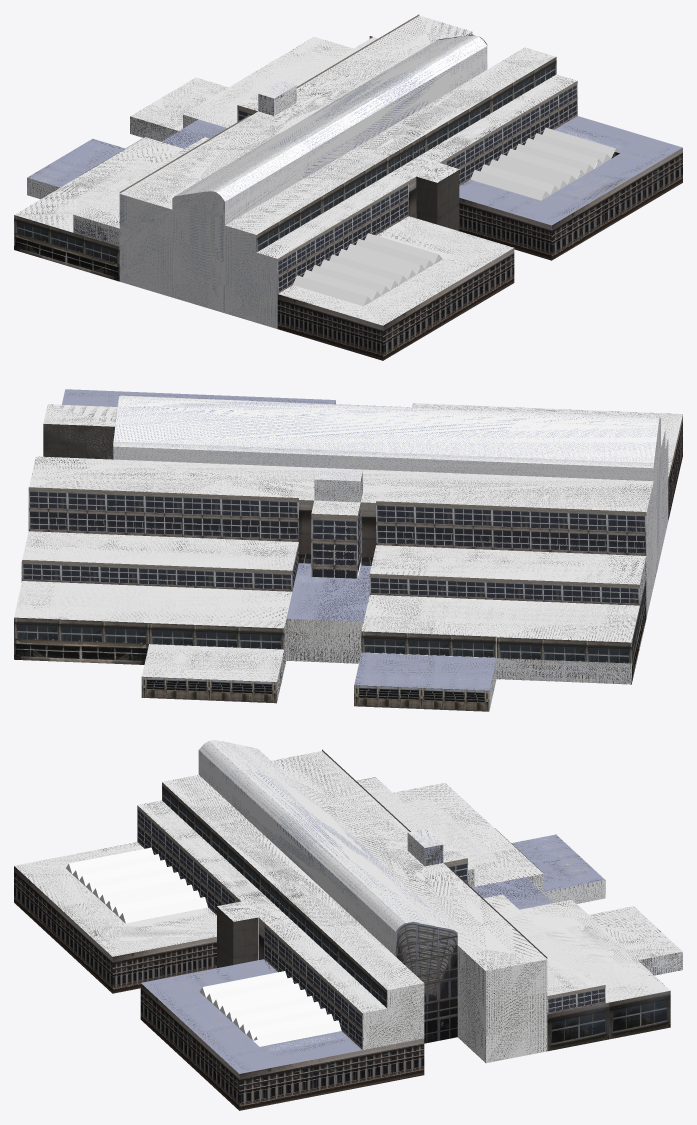
File: Edificio de arquitectura Tafira.fbx
3 views of the same model, one above another, from view 1: azimuth 30°, elevation 25°; view 2: azimuth 150°, elevation 25°; view 3: azimuth 270°, elevation 25° (orthographic). The views are drawn at different scales.
Visible parts, largest first — view 1: Model, Group1, Group2, Group8, Group17, Group12, Group18, Group4, Group9, Group19, Group11, Group22 (+8 smaller); view 2: Model; view 3: Model, Group2, Group1, Group12, Group22, Group8, Group21, Group5, Group14, Group16, Group17, Group13 (+8 smaller).
Boxes of the visible parts, <box> form: Model: <box>14,14,682,360</box>; Group1: <box>383,248,514,360</box>; Group2: <box>551,148,682,260</box>; Group8: <box>470,170,549,200</box>; Group17: <box>293,275,371,306</box>; Group12: <box>542,127,619,158</box>; Group18: <box>303,269,376,300</box>; Group4: <box>507,148,581,179</box>; Group9: <box>480,164,554,194</box>; Group19: <box>320,259,394,289</box>; Group11: <box>525,138,598,168</box>; Group22: <box>364,233,438,263</box>; Model: <box>14,389,682,711</box>; Model: <box>14,740,682,1110</box>; Group2: <box>140,983,239,1110</box>; Group1: <box>14,866,112,993</box>; Group12: <box>253,1020,341,1046</box>; Group22: <box>123,897,207,923</box>; Group8: <box>199,971,287,997</box>; Group21: <box>92,872,180,898</box>; Group5: <box>233,1001,320,1028</box>; Group14: <box>219,989,307,1015</box>; Group16: <box>79,859,166,886</box>; Group17: <box>66,847,153,874</box>; Group13: <box>246,1014,333,1040</box>.
Bounding box in the file's own units: 102 × 20.24 × 98.75.
